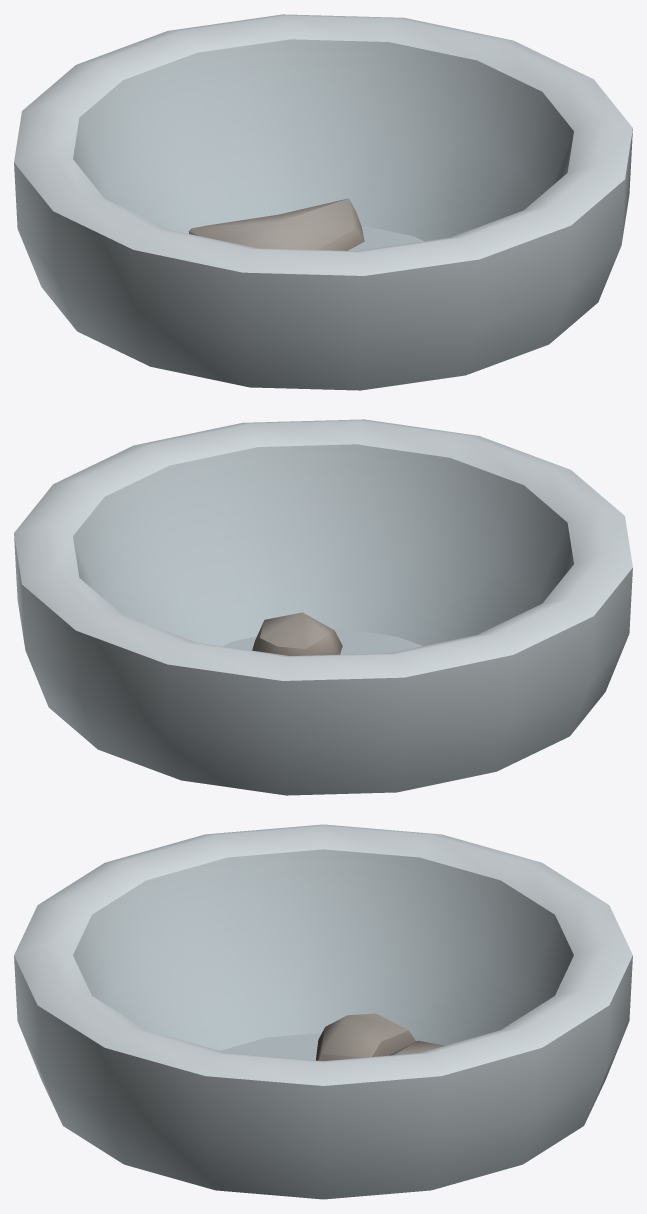
The model's file is bowl_dirty.obj.
3 views of the same model, one above another, from view 1: azimuth 30°, elevation 25°; view 2: azimuth 150°, elevation 25°; view 3: azimuth 270°, elevation 25° (orthographic).
Parts seen in each view (by area): view 1: bowl_dirty_Sphere.098; view 2: bowl_dirty_Sphere.098; view 3: bowl_dirty_Sphere.098.
Part boxes in pixels (x1,y1,x2,y2): bowl_dirty_Sphere.098: (14,14,632,390); bowl_dirty_Sphere.098: (14,419,632,795); bowl_dirty_Sphere.098: (14,824,632,1199).
Size of the model in its own units: 0.95 by 0.3 by 0.95.
1 material, 1 textured.
